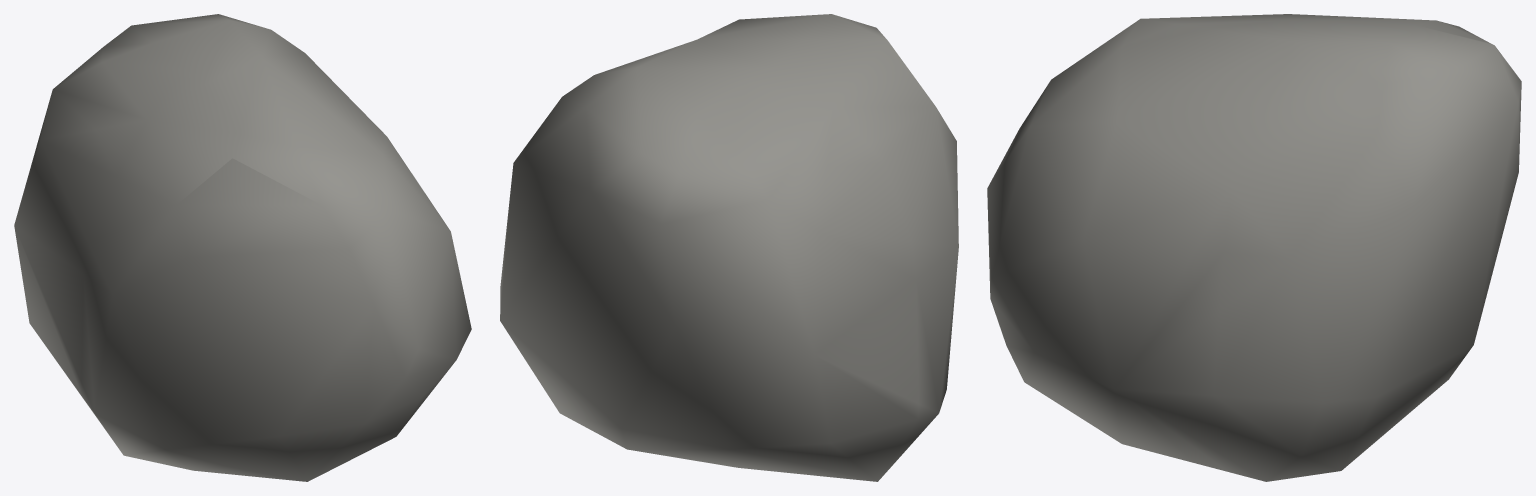
Rendered from Sm_Rocks7L.fbx.
3 views of the same model, side by side, from view 1: azimuth 30°, elevation 25°; view 2: azimuth 150°, elevation 25°; view 3: azimuth 270°, elevation 25° (orthographic). The views are drawn at different scales.
Parts seen in each view (by area): view 1: Sm_Rocks7L; view 2: Sm_Rocks7L; view 3: Sm_Rocks7L.
Part boxes in pixels (left/top/right/bottom): Sm_Rocks7L: left=14, top=14, right=471, bottom=481; Sm_Rocks7L: left=500, top=14, right=958, bottom=481; Sm_Rocks7L: left=987, top=14, right=1521, bottom=481.
Size of the model in its own units: 64.05 by 65.53 by 76.
